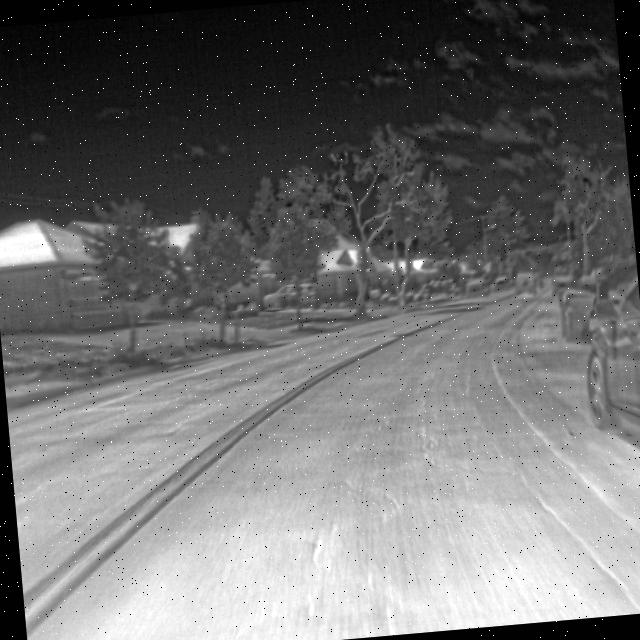Vehicle: (569, 250, 640, 483), (257, 276, 318, 314)
